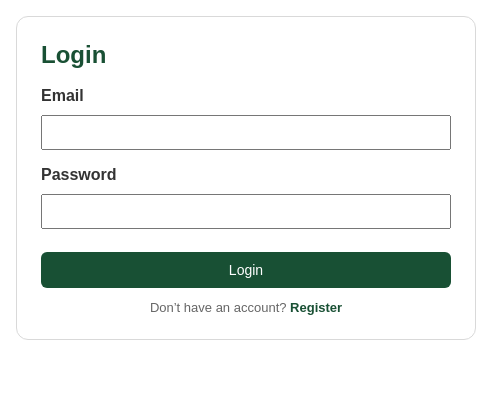
Test: Login › shows success message and stores currentUser on successful login
The image size is (493, 401).
Type "test@example.com" into the field named "email" at [246, 132], box top-left (41, 115), bottom-right (451, 150)
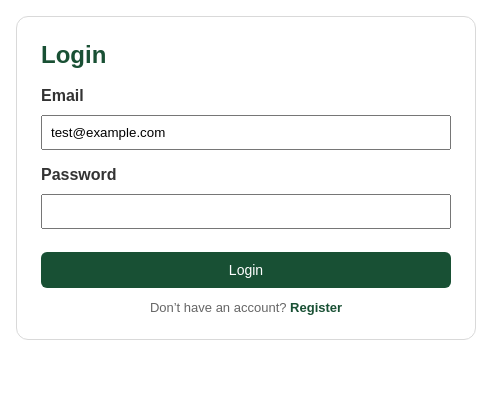
Type "123456" into the password field named "password" at [246, 212], box top-left (41, 194), bottom-right (451, 229)
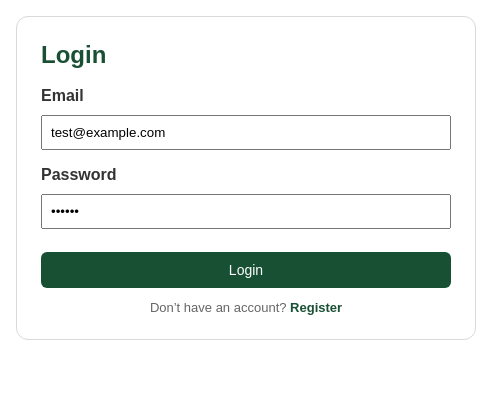
Click the button "Login" at [246, 270], box top-left (41, 252), bottom-right (451, 288)
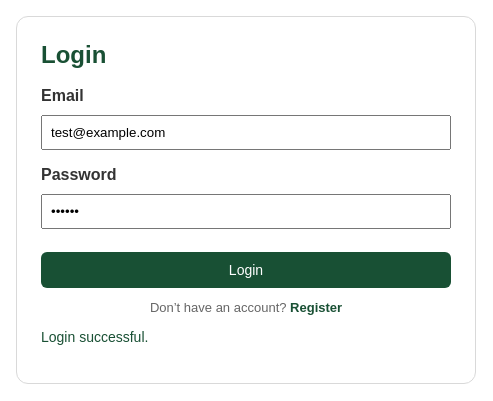
Now the text "Login successful." is shown, box top-left (41, 329), bottom-right (148, 345)
